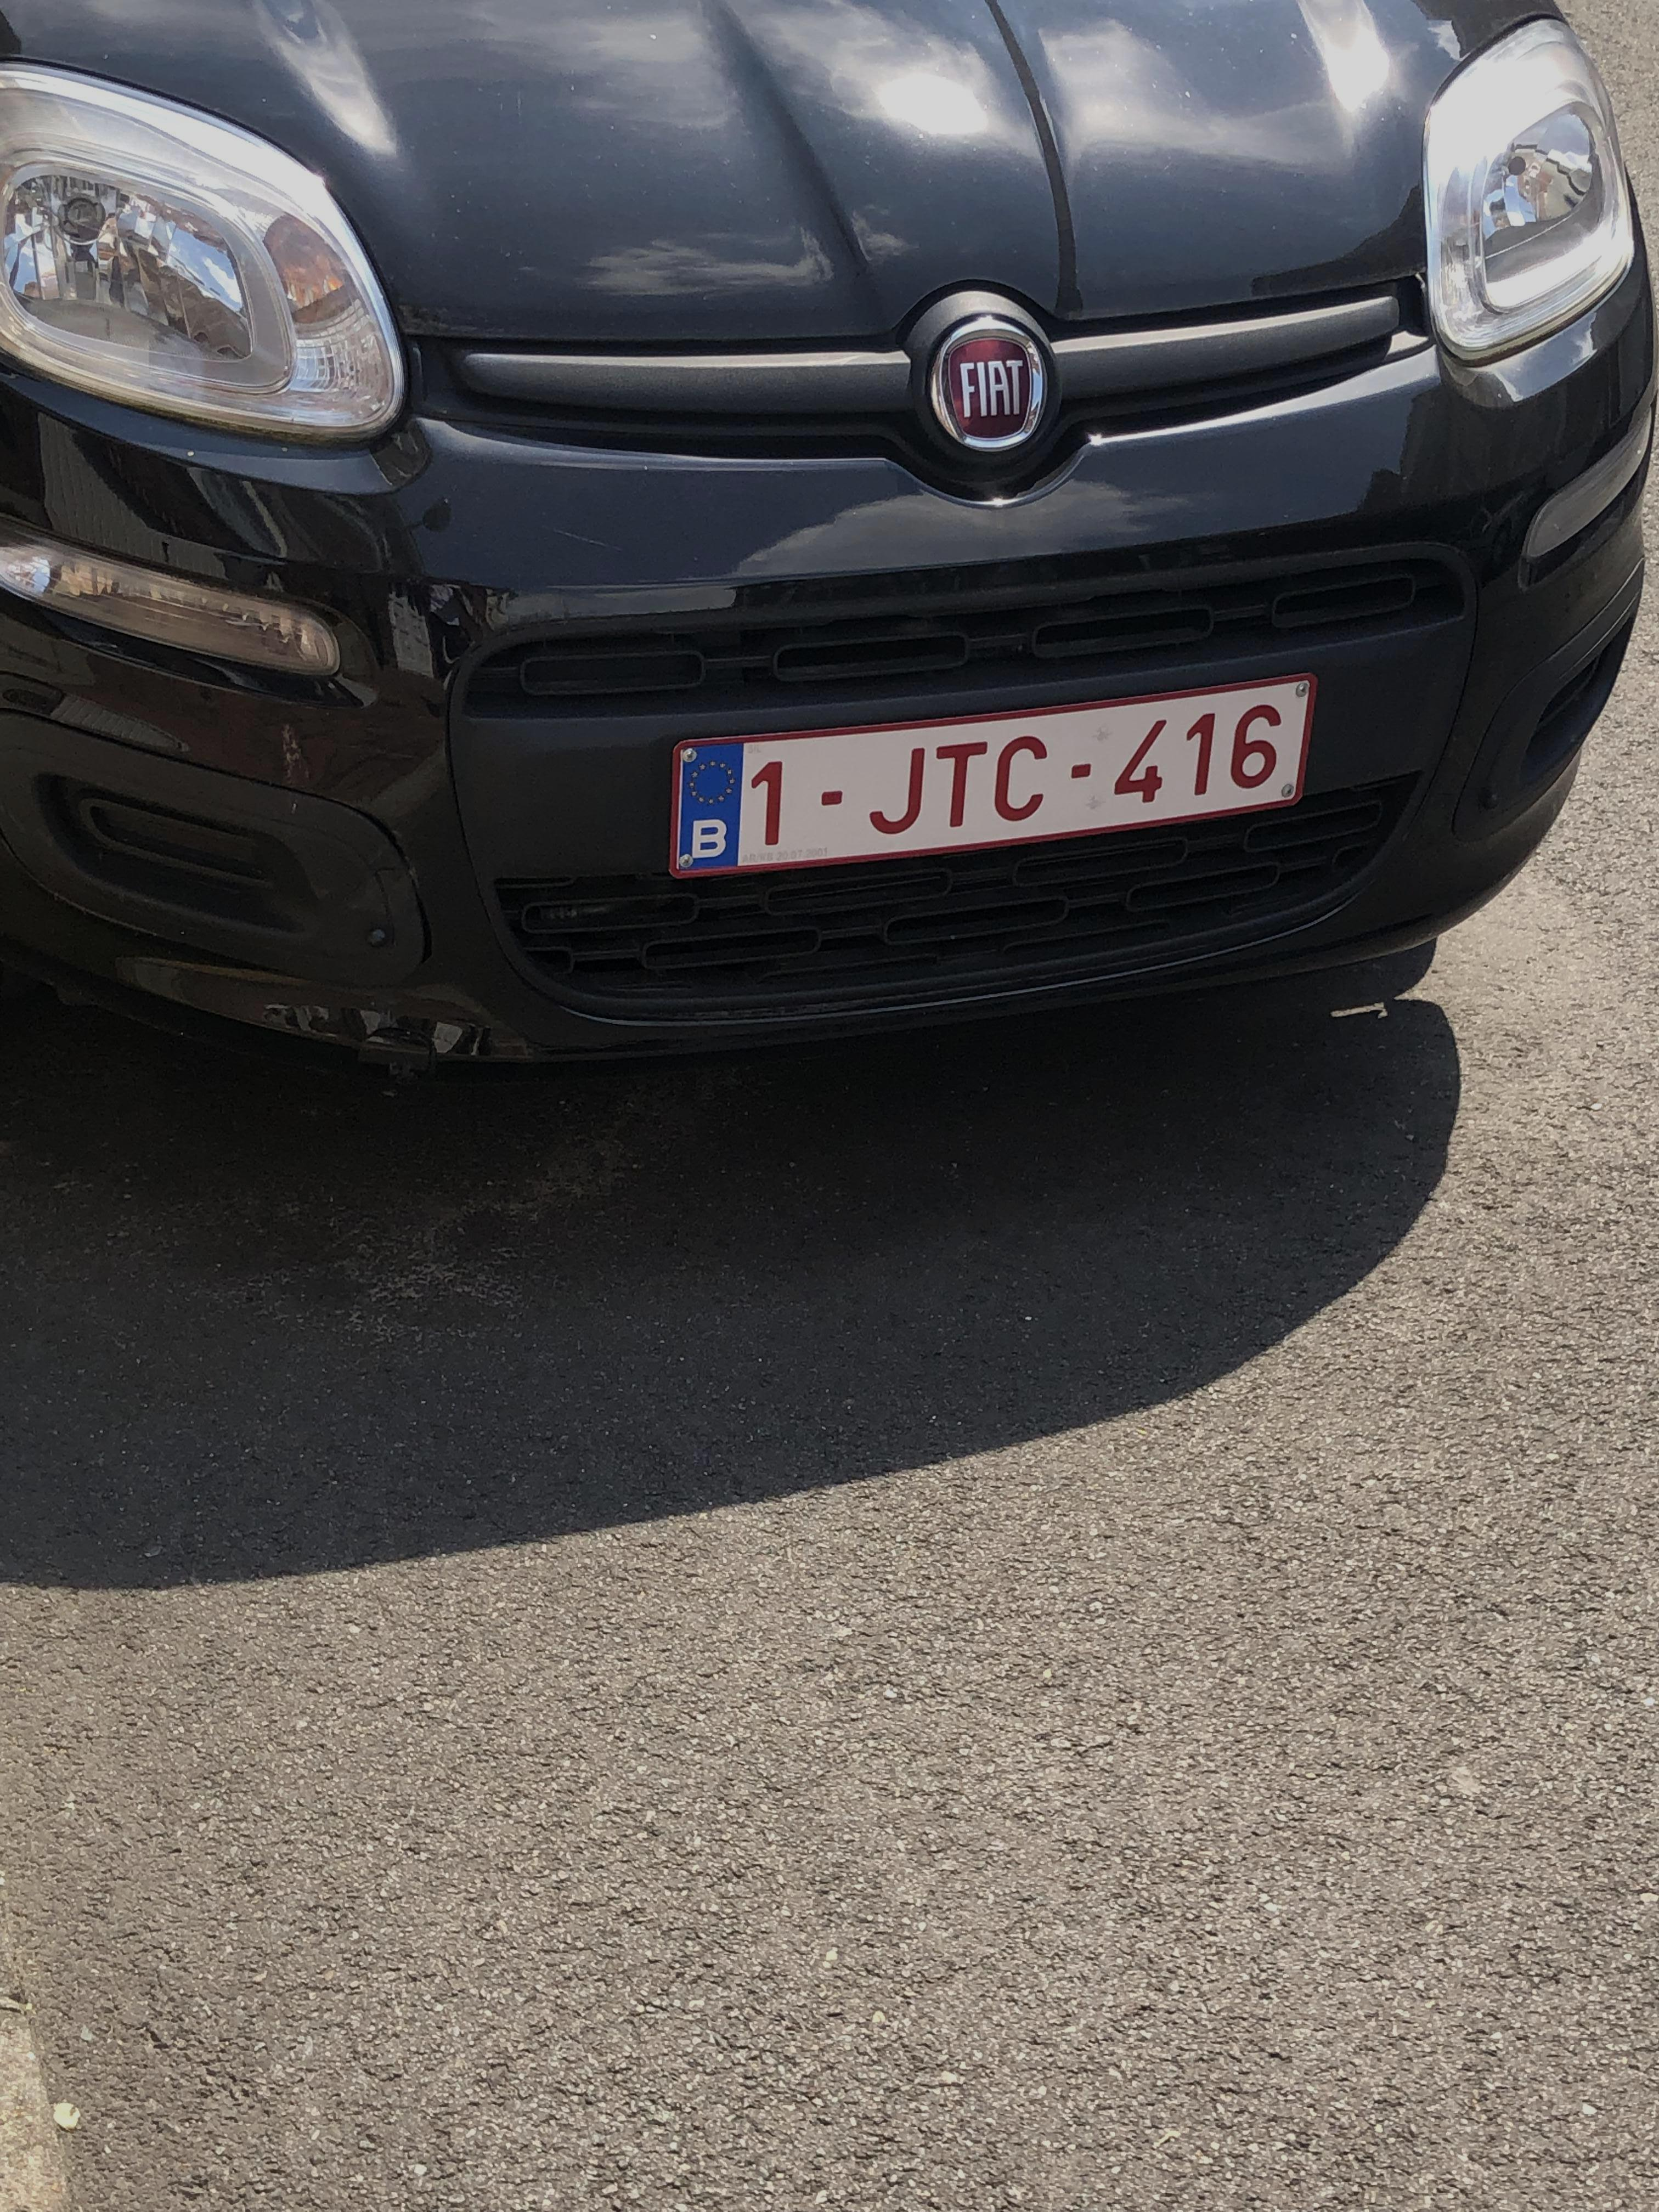plate: (657, 673, 1328, 890)
